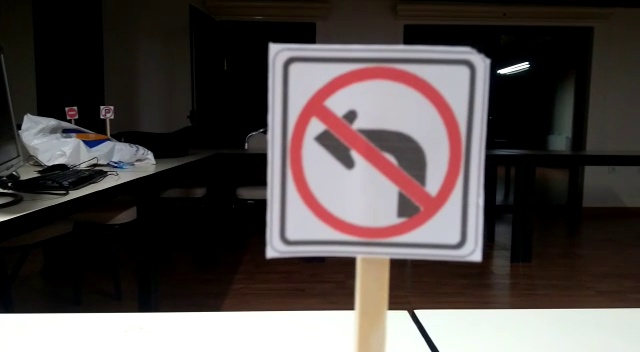sola_donulmez: (274, 61, 466, 249)
